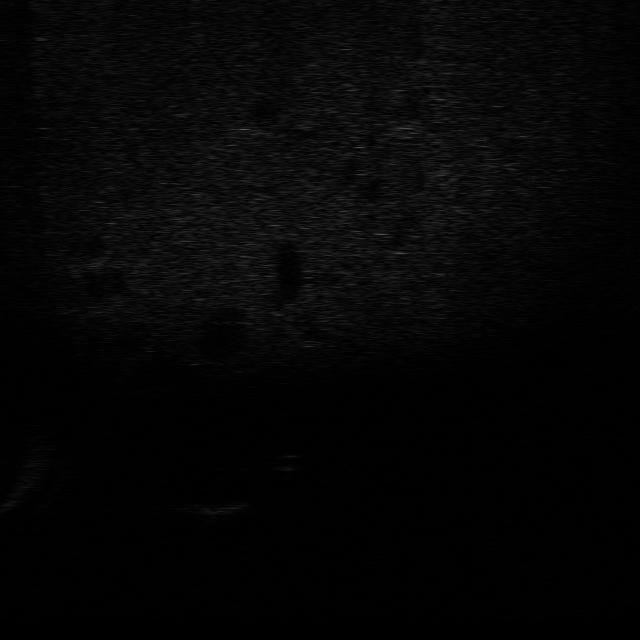ball: (262, 448, 312, 482)
square cage: (164, 493, 258, 531)
